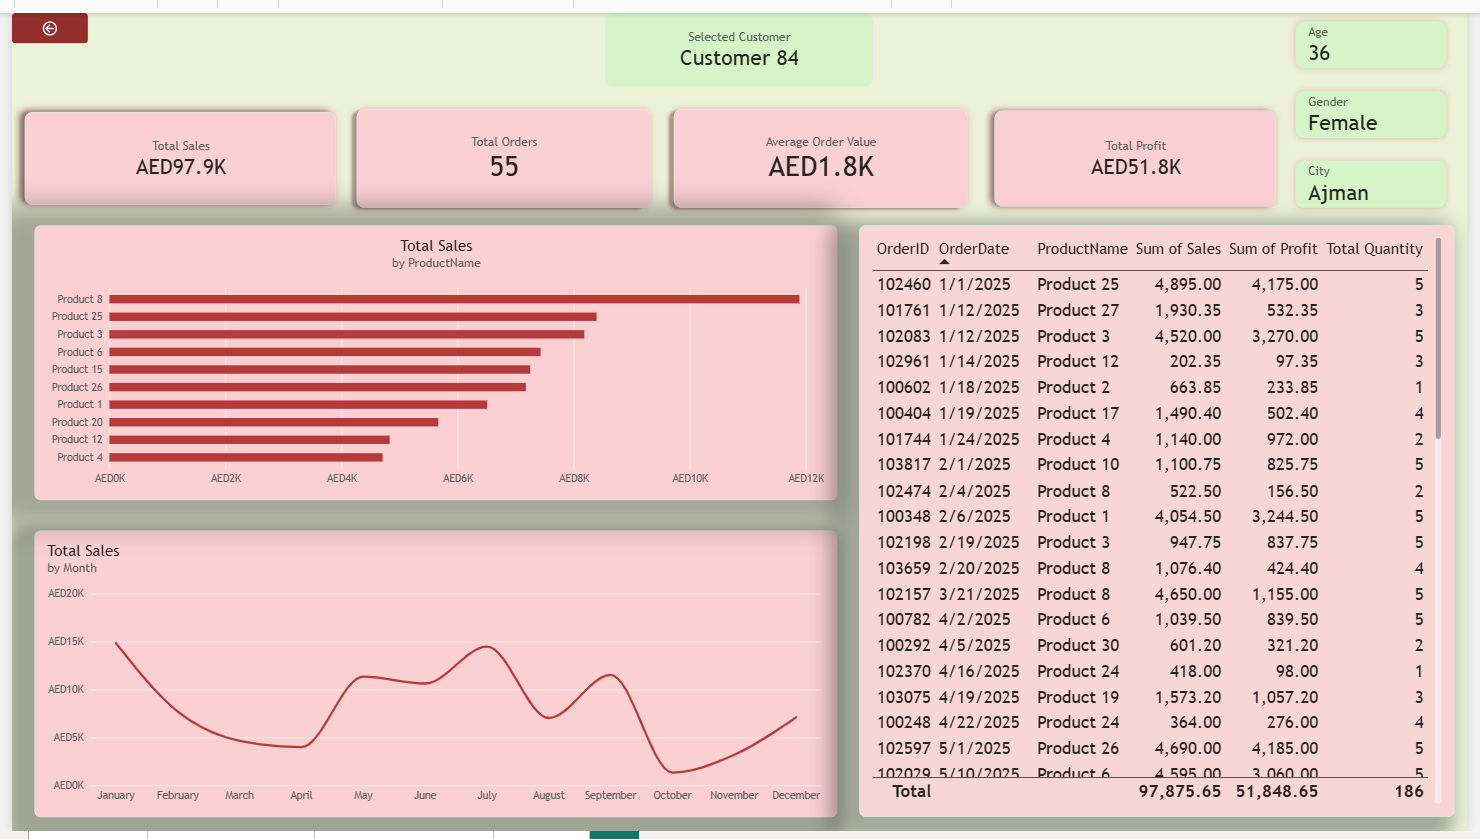

The dashboard page shown, as its layout file describes it:
{"tool":"powerbi","page":{"name":"Customer Details","canvas":[1920,1080],"ordinal":1},"visuals":[{"type":"actionButton","box":[0,0,100,40],"z":0},{"type":"cardVisual","fields":{"Data":["Measure Table.Total Sales"]},"box":[1.8,116.1,441.1,153.6],"z":1},{"type":"cardVisual","fields":{"Data":["Measure Table.Total Orders","Measure Table.Average Order Value"]},"box":[442.9,116.1,828.6,153.6],"z":2},{"type":"cardVisual","fields":{"Data":["Measure Table.Total Profit"]},"box":[1283.9,116.1,398.2,153.6],"z":3},{"type":"lineChart","fields":{"Category":["Date Table.Month"],"Y":["Measure Table.Total Sales"]},"box":[30.4,682.1,1058.9,378.6],"z":4},{"type":"barChart","fields":{"Category":["Products.ProductName"],"Y":["Measure Table.Total Sales"]},"box":[30.4,280.4,1058.9,362.5],"z":5},{"type":"tableEx","fields":{"Values":["Orders.OrderID","Orders.OrderDate","Products.ProductName","Sum(Orders.Sales)","Sum(Orders.Profit)","Measure Table.Total Quantity"]},"box":[1118.3,280.4,785.1,780.2],"z":6},{"type":"actionButton","box":[0,0,100,40],"z":7},{"type":"cardVisual","fields":{"Data":["Measure Table.Selected Customer"]},"box":[781.8,0,354.6,97.3],"z":8},{"type":"cardVisual","fields":{"Data":["Sum(Customers.Age)","Min(Customers.Gender)","Min(Customers.City)"]},"box":[1682.2,0,221.4,269.6],"z":9}]}

Visuals, with their boxes in screenshot pixels (x1, y1, x2, y2), scaled from the page's 1920x1080 canvas onto the 1480x839 screenshot:
actionButton: x1=0, y1=0, x2=77, y2=31
cardVisual - Measure Table.Total Sales: x1=1, y1=90, x2=341, y2=210
cardVisual - Measure Table.Total Orders x Measure Table.Average Order Value: x1=341, y1=90, x2=980, y2=210
cardVisual - Measure Table.Total Profit: x1=990, y1=90, x2=1297, y2=210
lineChart - Date Table.Month x Measure Table.Total Sales: x1=23, y1=530, x2=840, y2=824
barChart - Products.ProductName x Measure Table.Total Sales: x1=23, y1=218, x2=840, y2=499
tableEx - Orders.OrderID x Orders.OrderDate: x1=862, y1=218, x2=1467, y2=824
actionButton: x1=0, y1=0, x2=77, y2=31
cardVisual - Measure Table.Selected Customer: x1=603, y1=0, x2=876, y2=76
cardVisual - Sum(Customers.Age) x Min(Customers.Gender): x1=1297, y1=0, x2=1467, y2=209
